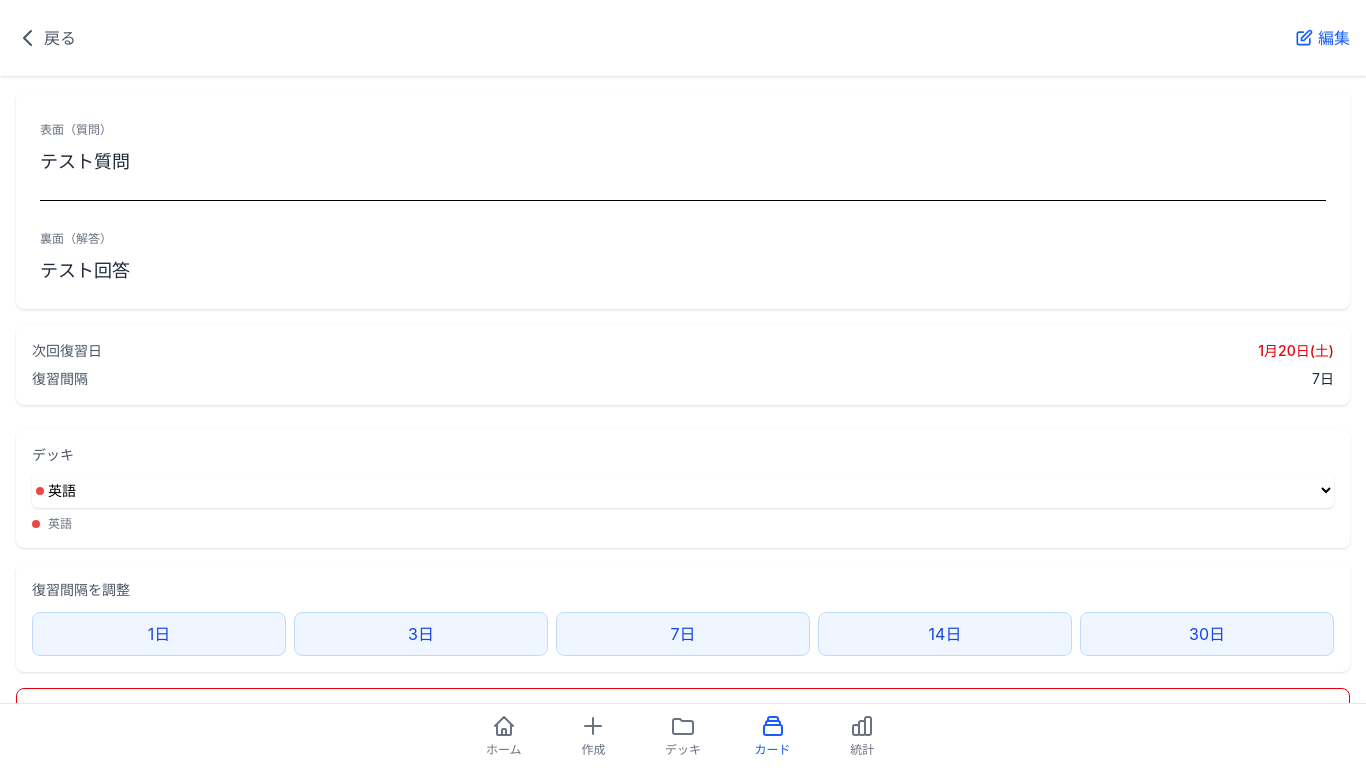
Test: CardDetailPage › テストケース2: 編集モードへの切り替え › 編集ボタンをクリックすると編集フォームが表示される
The width and height of the screenshot is (1366, 768).
Check: the element with test id "card-detail" is shown, box [16,92,1350,309]
Click the button with test id "edit-button": (1322, 38) [1294,16,1350,60]
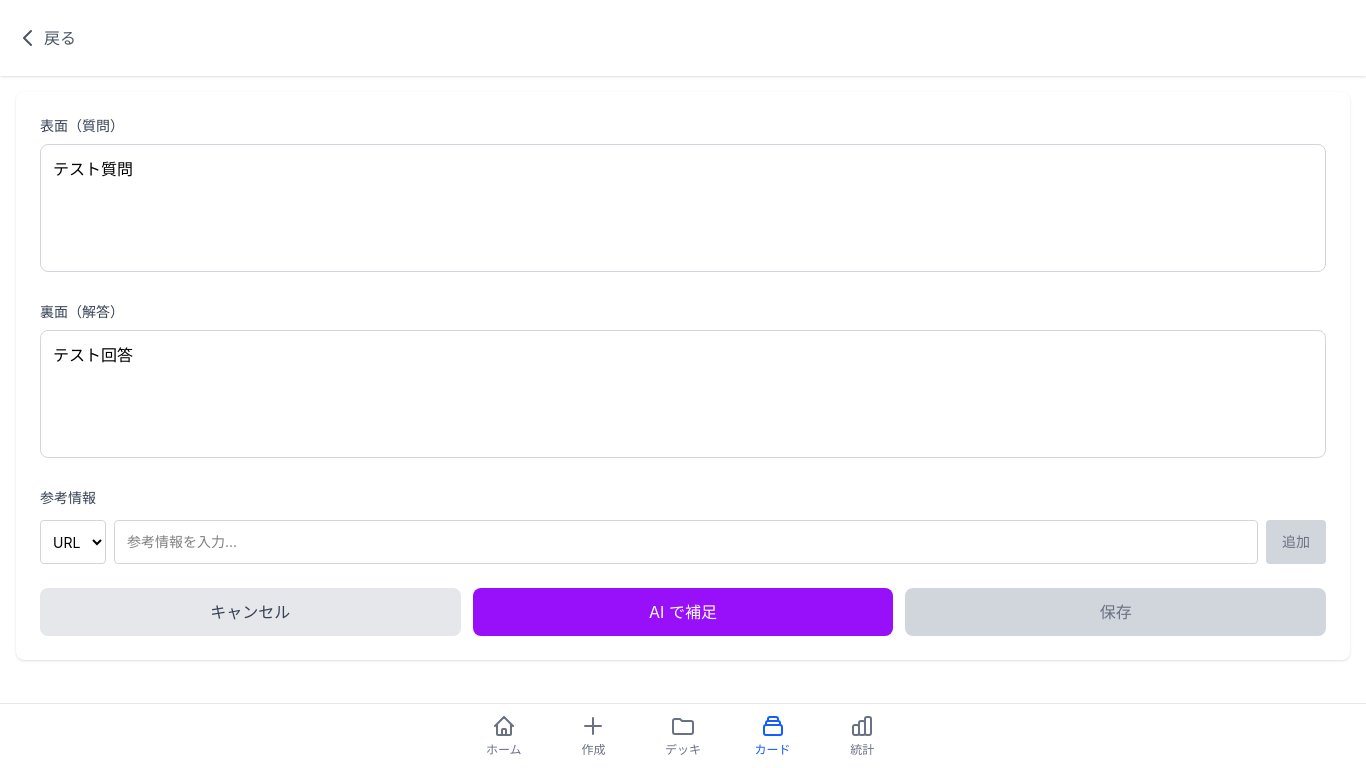
Check: the form with test id "card-form" is shown
